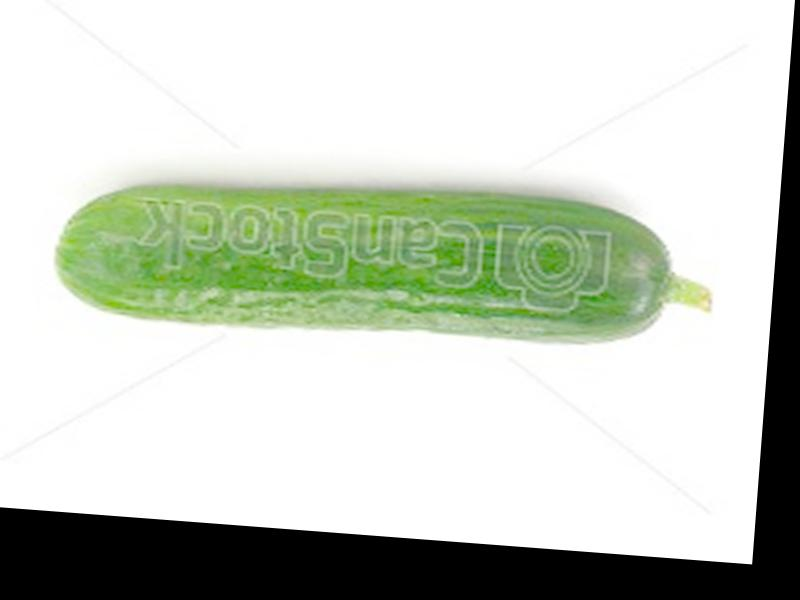Cucumber: (46, 158, 722, 361)
